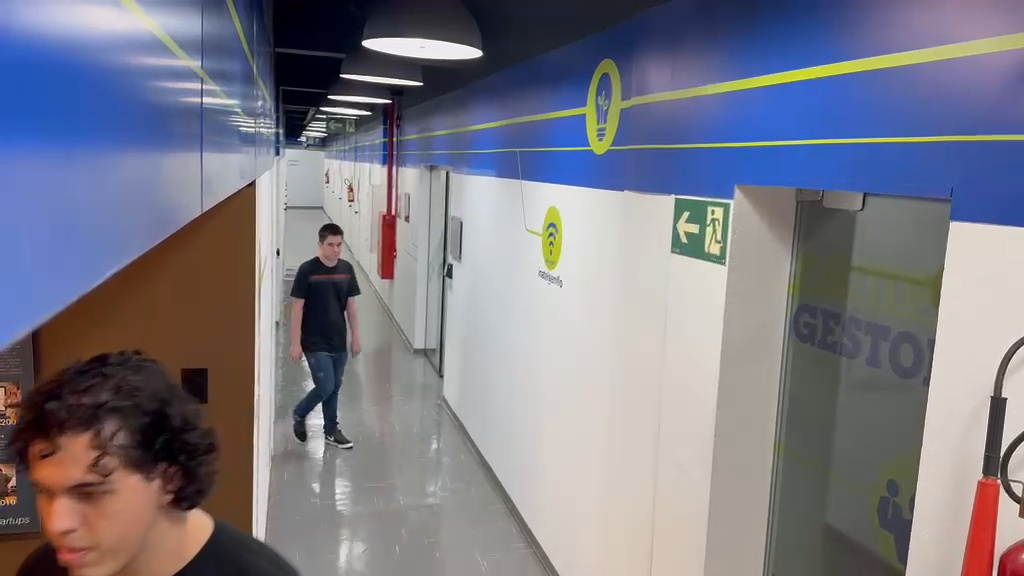person: (4, 350, 301, 571), (284, 223, 361, 448)
